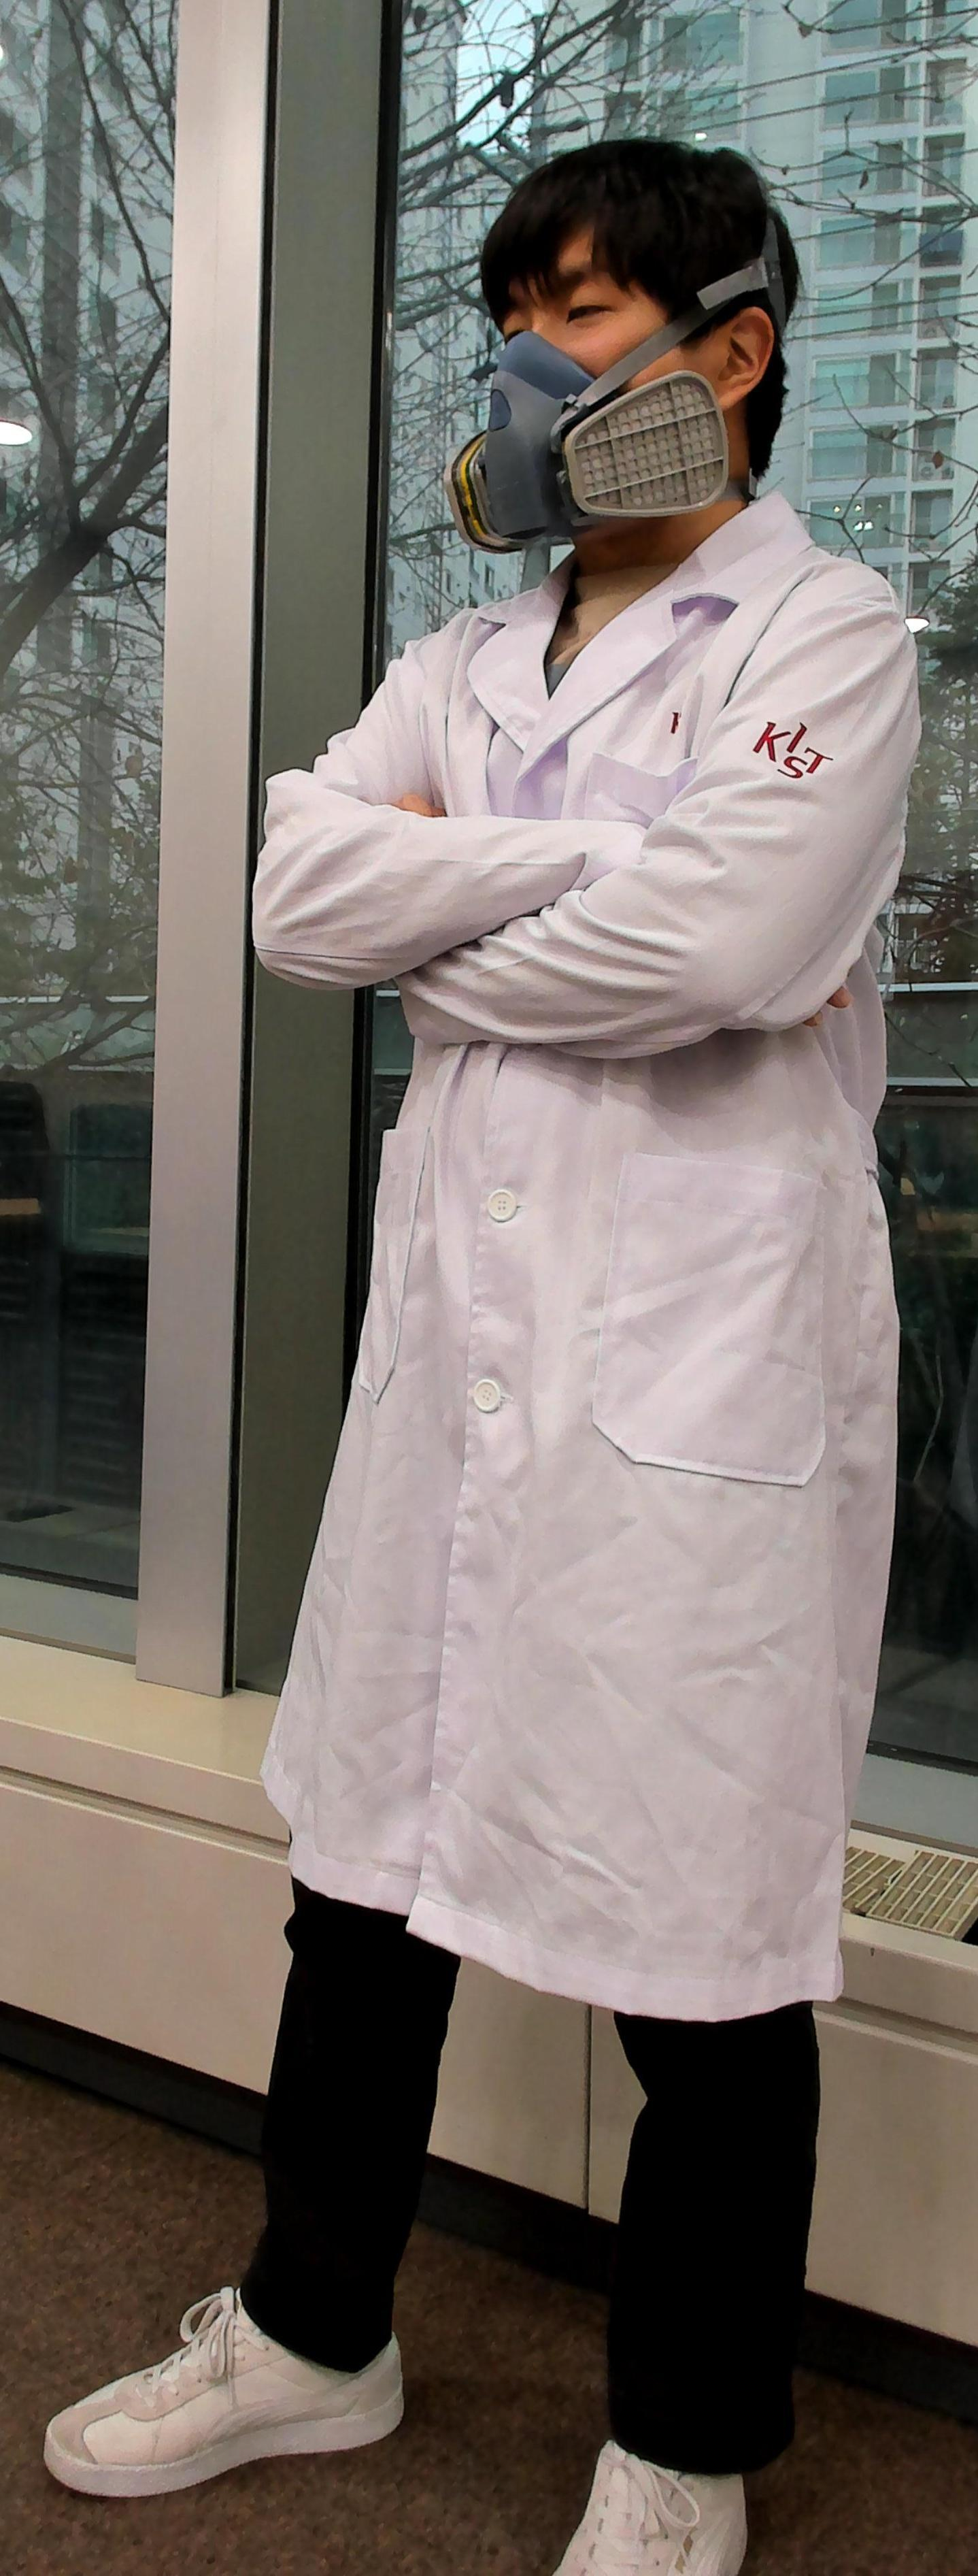lab_coat: (300, 621, 883, 1971)
